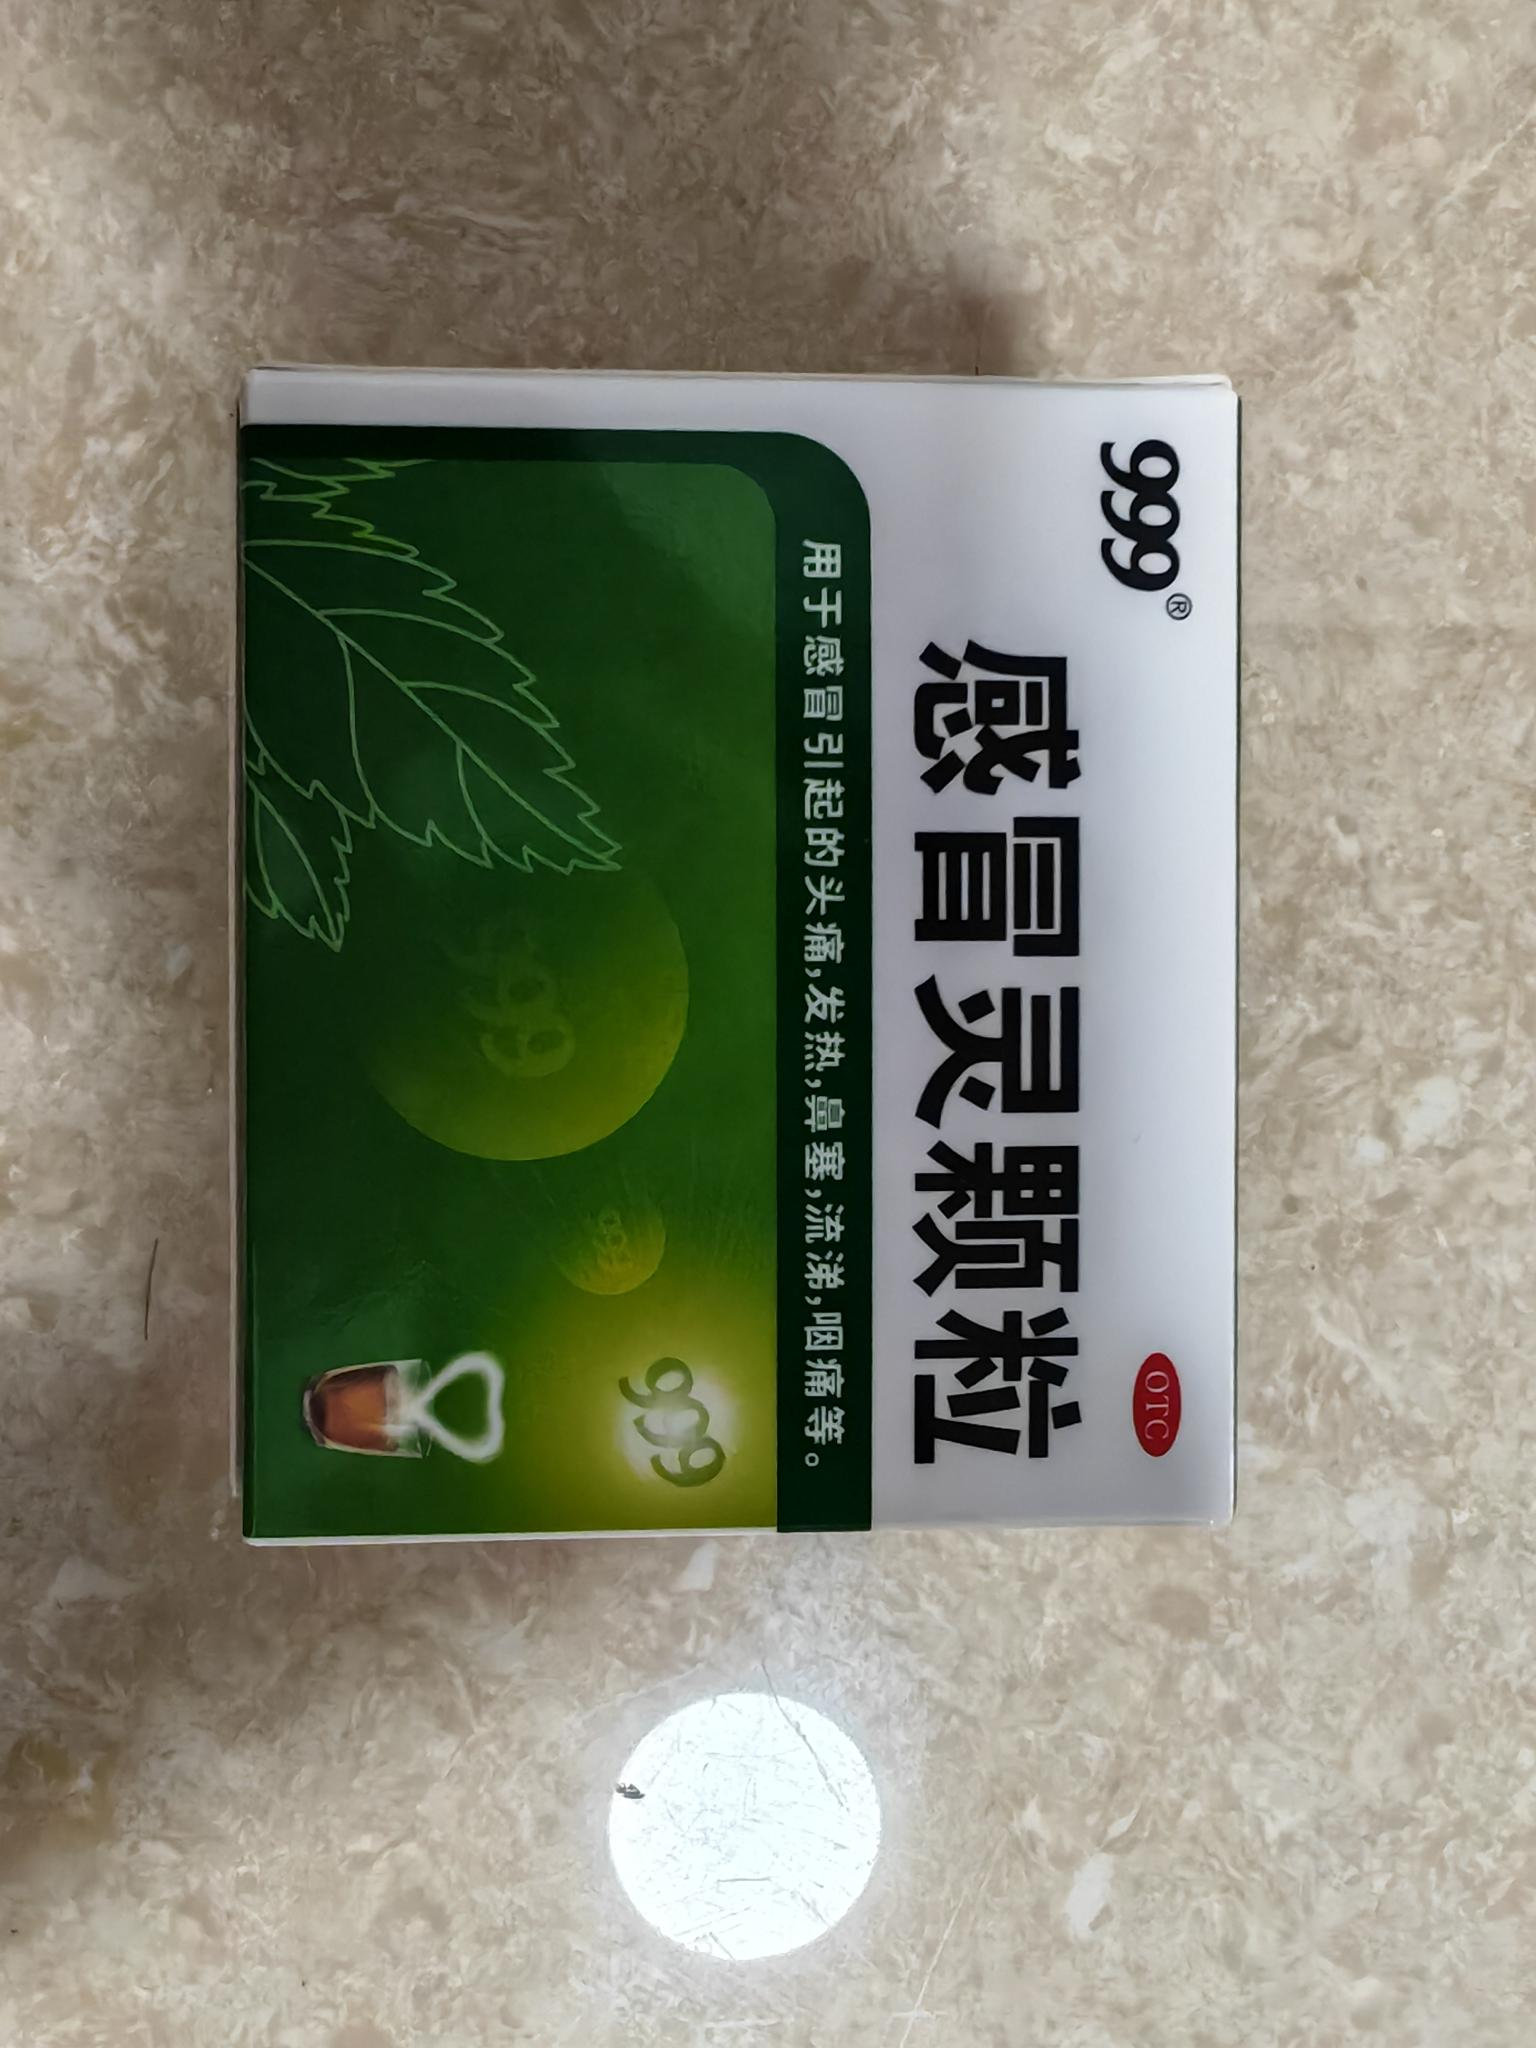Medicine3: (216, 339, 1273, 1558)
